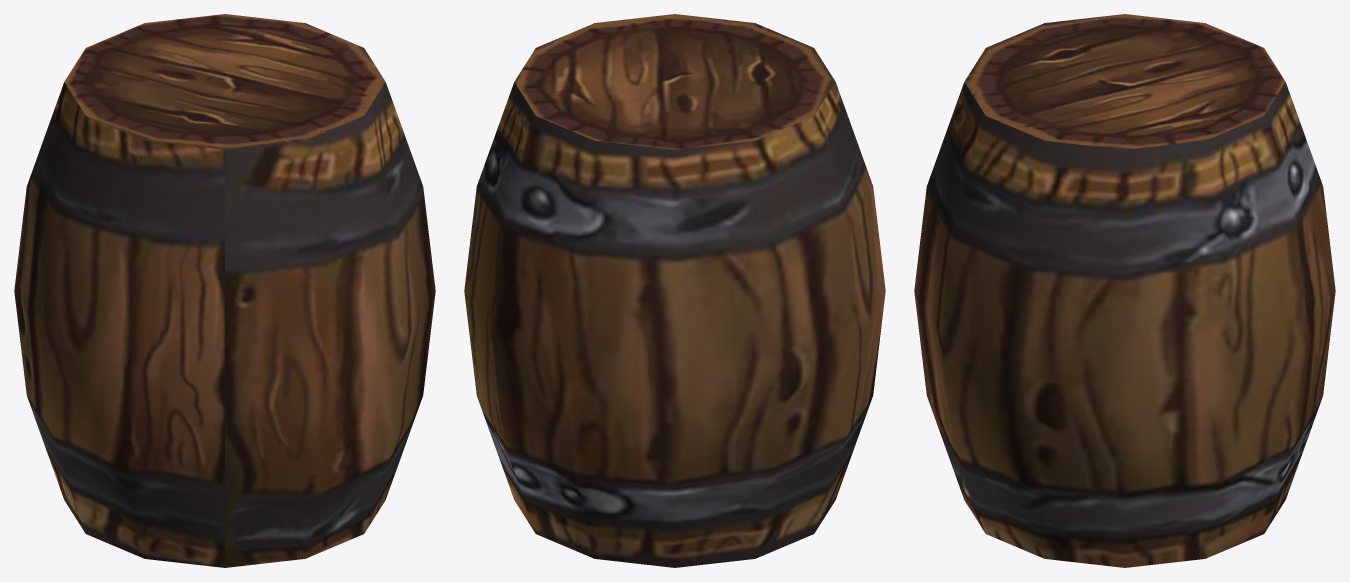
Rendered from Barrel.fbx.
The picture shows the model from 3 angles, left to right: view 1: azimuth 30°, elevation 25°; view 2: azimuth 150°, elevation 25°; view 3: azimuth 270°, elevation 25°; orthographic projection.
Visible parts, largest first — view 1: 1_Barrel; view 2: 1_Barrel; view 3: 1_Barrel.
Part boxes in pixels (x1,y1,x2,y2): 1_Barrel: (14,14,435,567); 1_Barrel: (464,14,885,567); 1_Barrel: (914,14,1335,567).
Size of the model in its own units: 63 by 68.97 by 63.
